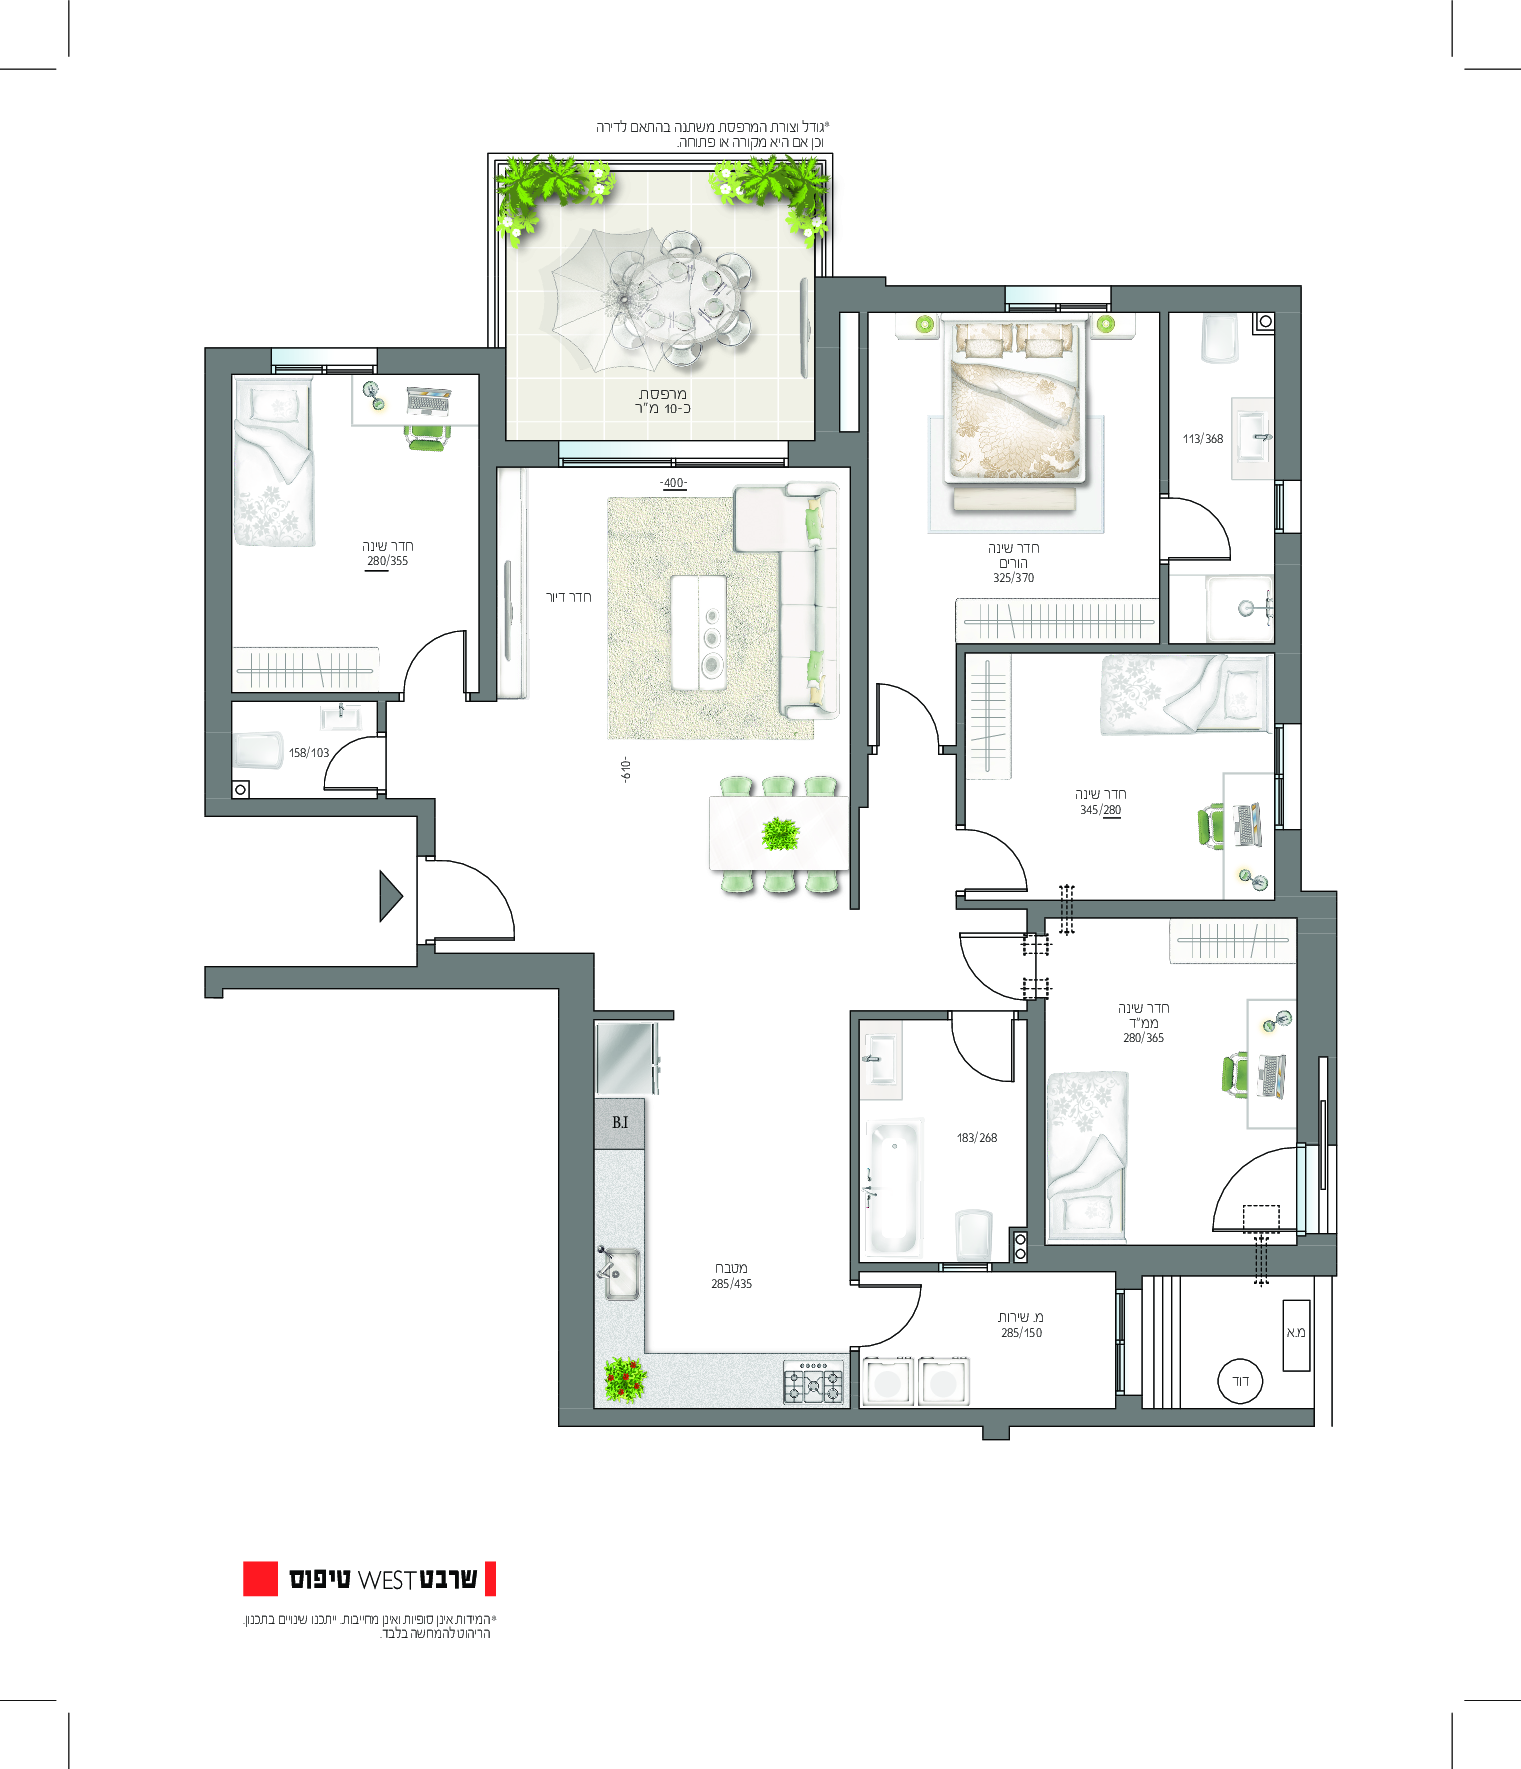door: (439, 848, 537, 945), (1196, 1142, 1289, 1236), (1173, 475, 1249, 575), (939, 918, 1022, 1003), (942, 1024, 1019, 1094), (873, 672, 946, 740), (865, 1280, 934, 1349), (969, 824, 1035, 897), (403, 624, 472, 687), (311, 730, 373, 796)
wall: (558, 972, 594, 1414), (205, 353, 229, 808), (564, 1411, 1307, 1425), (208, 969, 594, 985), (1274, 295, 1307, 468), (852, 436, 867, 806), (1274, 536, 1301, 721), (421, 957, 590, 985), (1301, 894, 1331, 1051), (817, 287, 1000, 310), (481, 350, 493, 693), (815, 278, 838, 460), (1028, 1000, 1044, 1243), (1037, 1252, 1253, 1270), (1119, 289, 1292, 311), (1300, 936, 1318, 1136), (1079, 903, 1336, 916), (208, 800, 435, 815), (958, 645, 1300, 651), (852, 1011, 858, 1273), (1279, 833, 1298, 913), (1160, 287, 1167, 490), (957, 645, 964, 826), (852, 1011, 946, 1018), (957, 900, 1052, 907), (1161, 563, 1167, 651)
window: (554, 432, 791, 477), (1002, 272, 1115, 317), (269, 335, 381, 381), (1104, 1286, 1148, 1397), (1267, 721, 1304, 833), (1268, 478, 1309, 536), (936, 1258, 993, 1276)
